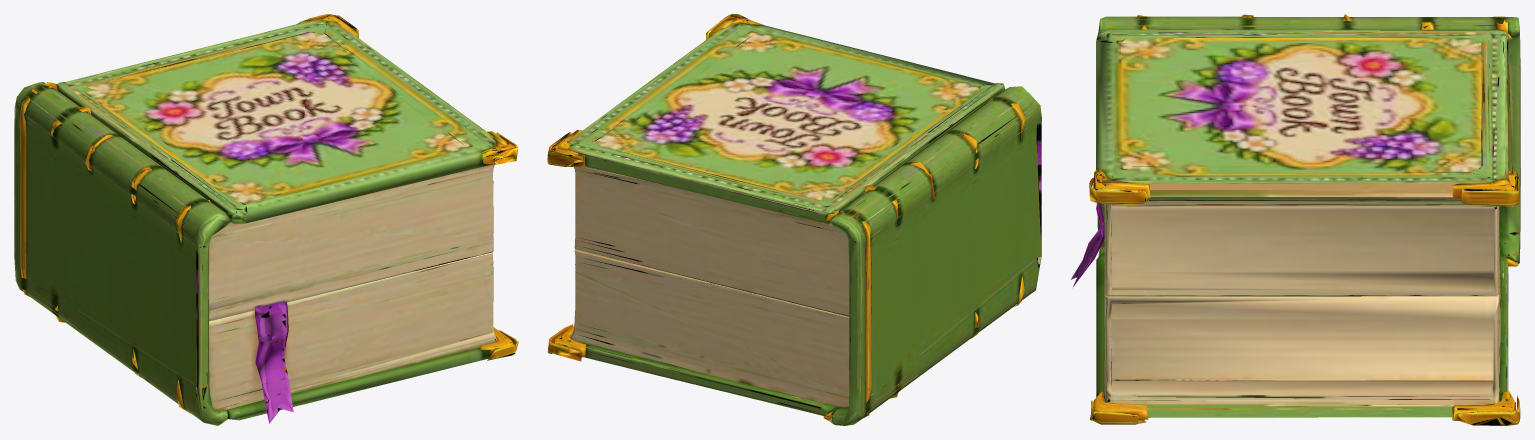
File: townbook.glb
The picture shows the model from 3 angles, left to right: view 1: azimuth 30°, elevation 25°; view 2: azimuth 150°, elevation 25°; view 3: azimuth 270°, elevation 25°; orthographic projection. The views are drawn at different scales.
Parts seen in each view (by area): view 1: geometry_0; view 2: geometry_0; view 3: geometry_0.
Boxes of the visible parts, x1,y1,x2,y2 form: geometry_0: (14,14,518,425); geometry_0: (547,14,1041,425); geometry_0: (1071,14,1520,425).
Bounding box in the file's own units: 0.8984 × 0.5718 × 0.9463.
1 material, 1 textured.
